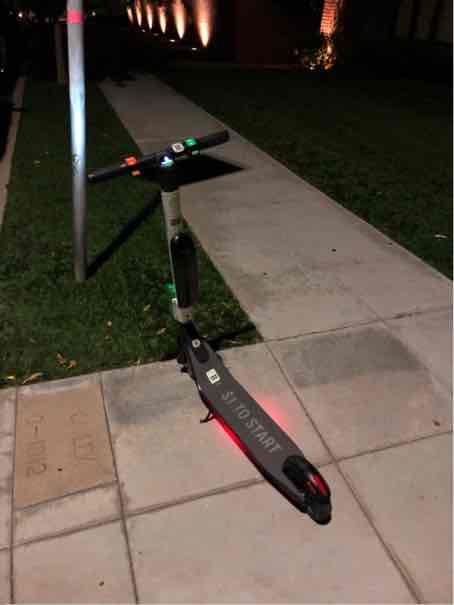scooter: (70, 124, 353, 524)
